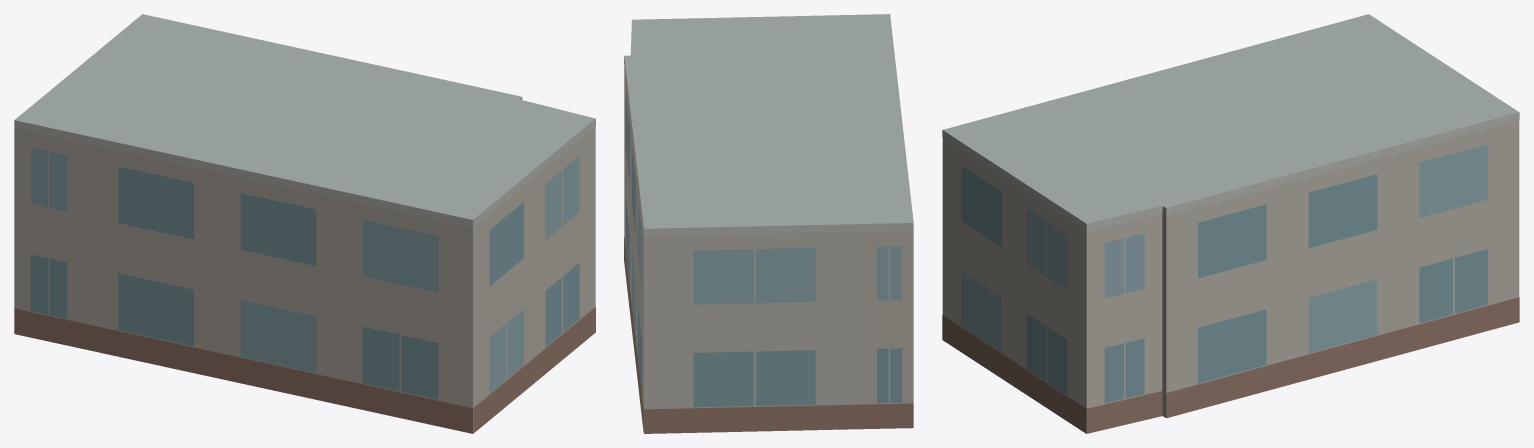
The model's file is survey-upis-32619292.glb.
3 renders of one model, left to right at view 1: azimuth 30°, elevation 25°; view 2: azimuth 150°, elevation 25°; view 3: azimuth 270°, elevation 25°, orthographic. The views are drawn at different scales.
Parts seen in each view (by area): view 1: survey-upis-32619292.tmp; view 2: survey-upis-32619292.tmp; view 3: survey-upis-32619292.tmp.
Boxes of the visible parts, left/top/right/bottom form: survey-upis-32619292.tmp: left=14, top=14, right=595, bottom=433; survey-upis-32619292.tmp: left=624, top=14, right=913, bottom=433; survey-upis-32619292.tmp: left=942, top=14, right=1519, bottom=433.
Size of the model in its own units: 13.93 by 6.5 by 16.19.
